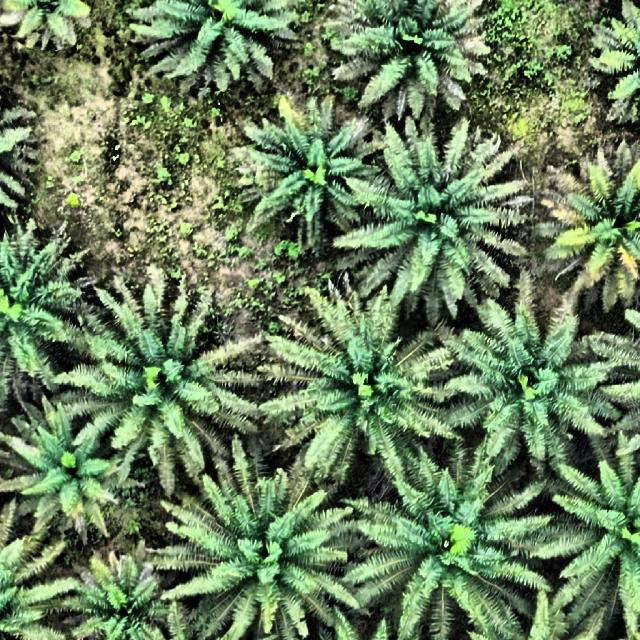Kelapa_Sawit: (78, 289, 249, 461), (274, 302, 448, 466), (176, 473, 344, 636), (453, 303, 606, 469), (388, 464, 540, 630), (361, 131, 516, 292), (327, 5, 496, 114), (248, 101, 382, 238), (550, 147, 640, 311), (561, 459, 640, 639), (134, 3, 297, 88), (17, 410, 122, 534), (0, 229, 70, 387), (62, 547, 172, 640), (0, 528, 58, 640), (590, 0, 640, 129), (0, 107, 45, 215), (7, 0, 92, 48)
